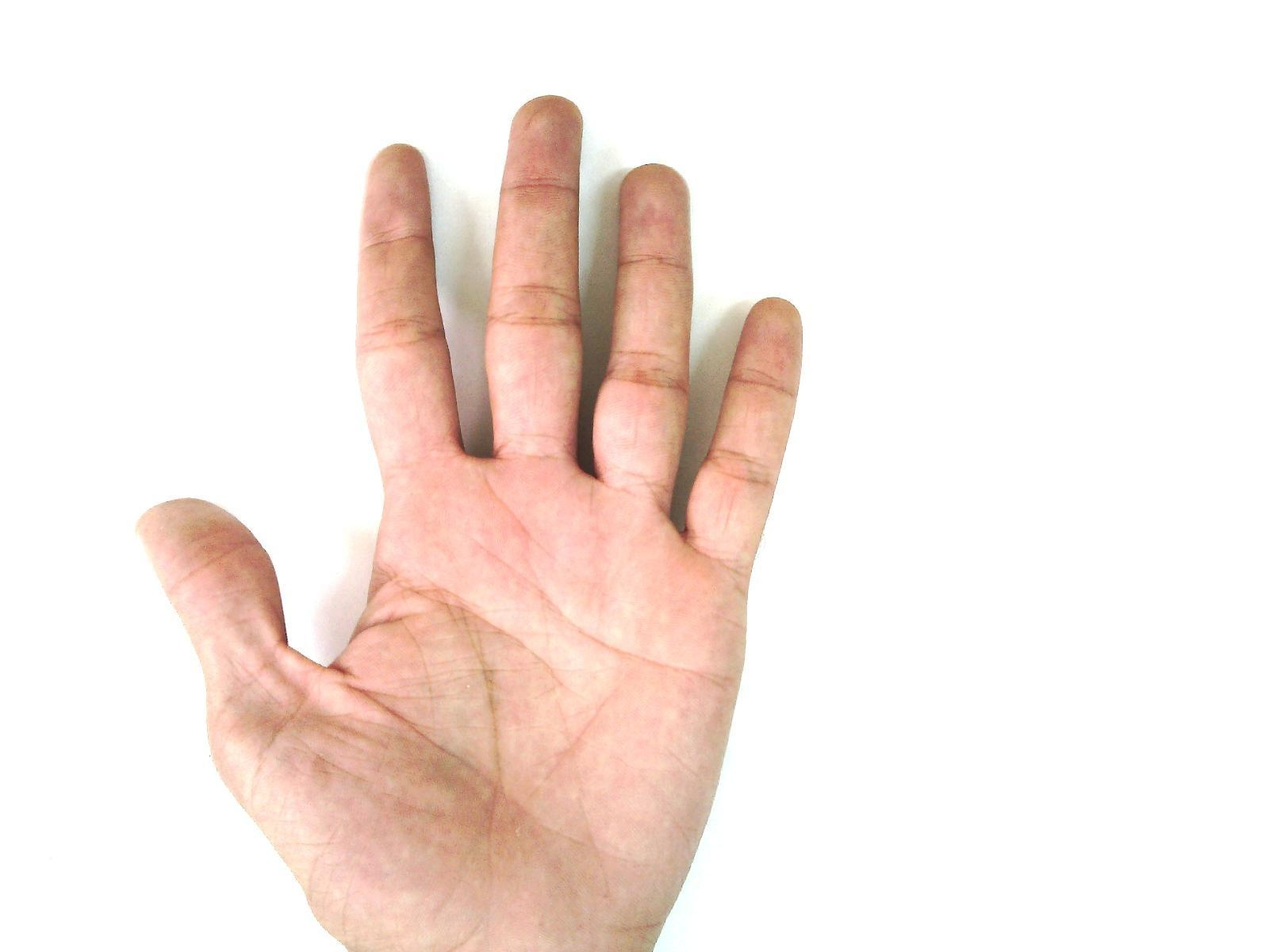open_palm: (135, 94, 807, 951)
